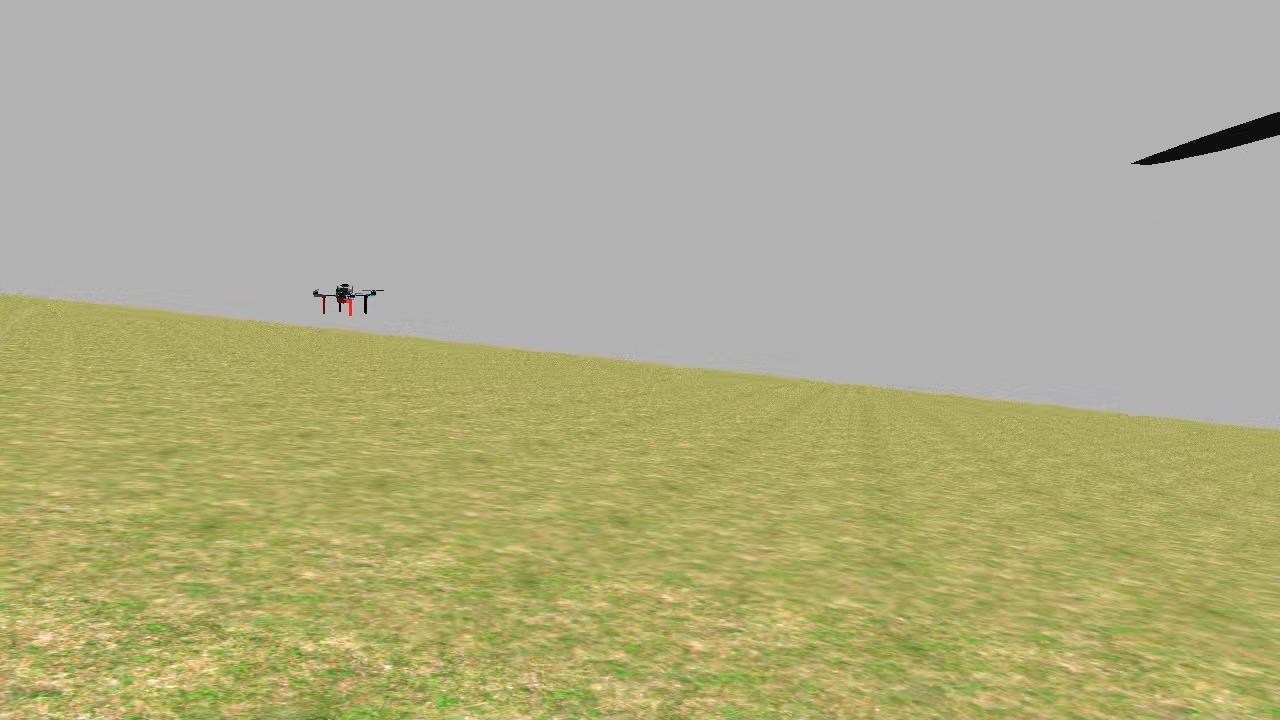UAV: (311, 273, 381, 326)
